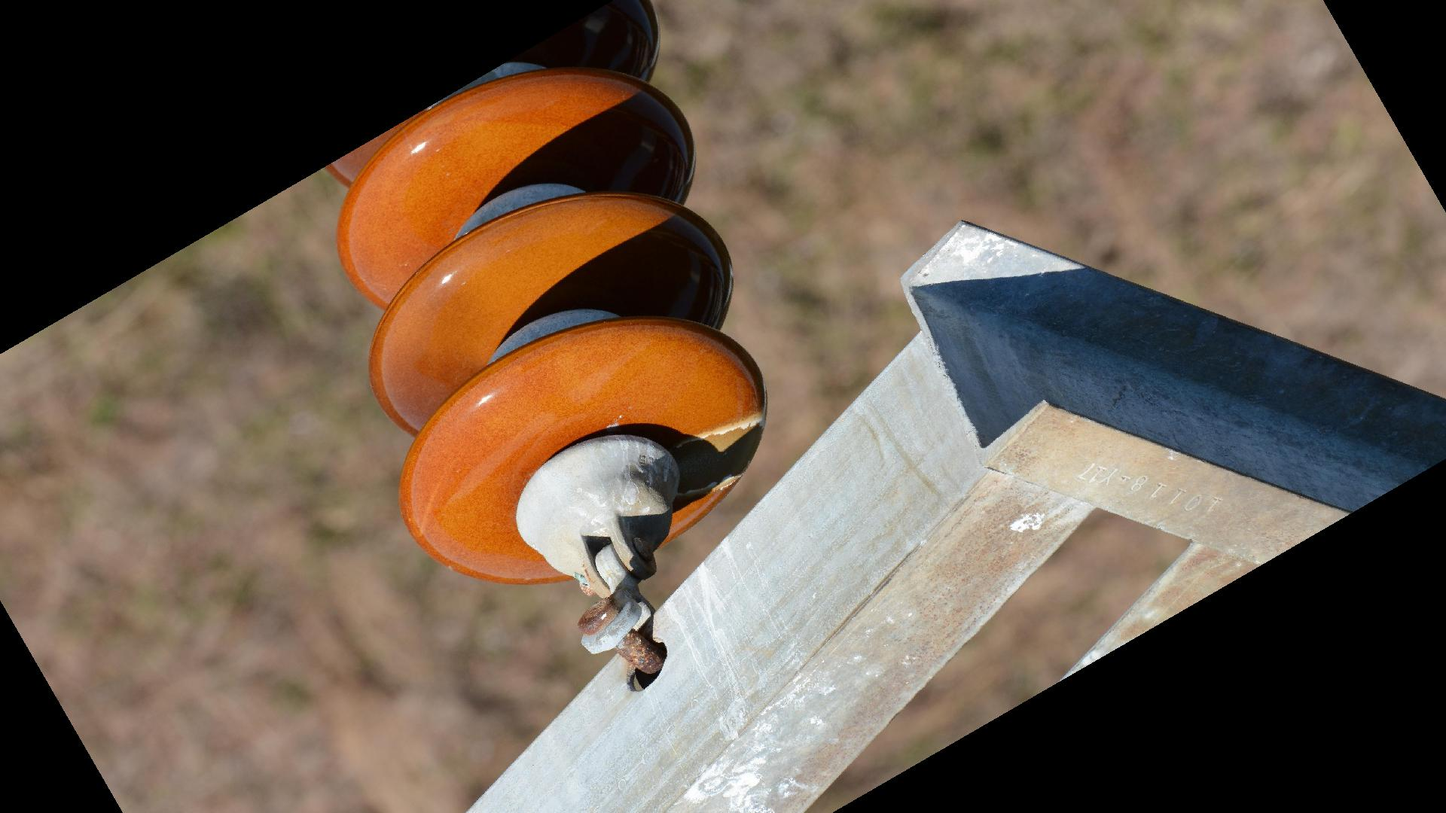insulator: (317, 1, 775, 595)
insulator_flashover: (669, 410, 769, 501)
